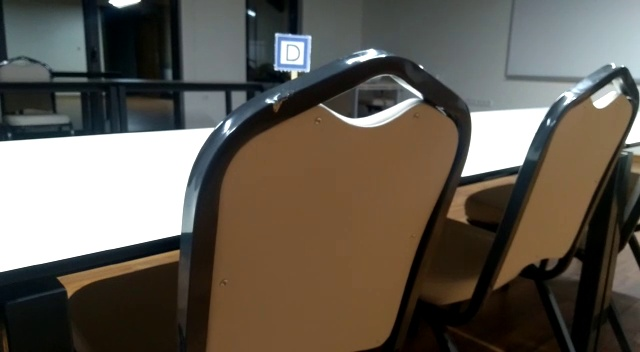durak: (273, 34, 313, 71)
